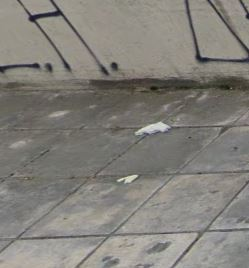trash: (127, 119, 180, 138), (110, 168, 147, 190)
